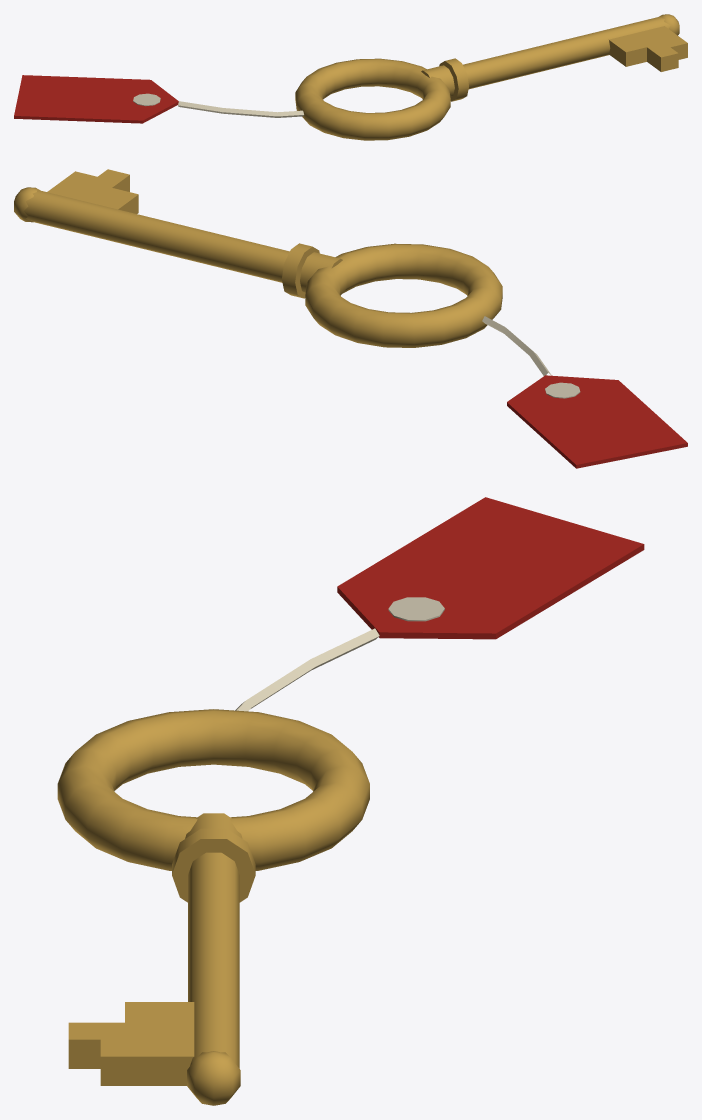
File: item_key.glb
3 renders of one model, top to bottom at view 1: azimuth 30°, elevation 25°; view 2: azimuth 150°, elevation 25°; view 3: azimuth 270°, elevation 25°, orthographic. The views are drawn at different scales.
Visible parts, largest first — view 1: Key; view 2: Key; view 3: Key.
Boxes of the visible parts, bbox=[...] form: Key: bbox=[14, 14, 687, 140]; Key: bbox=[14, 169, 687, 468]; Key: bbox=[57, 497, 644, 1105].
Size of the model in its own units: 0.1706 by 0.00989 by 0.0726.
